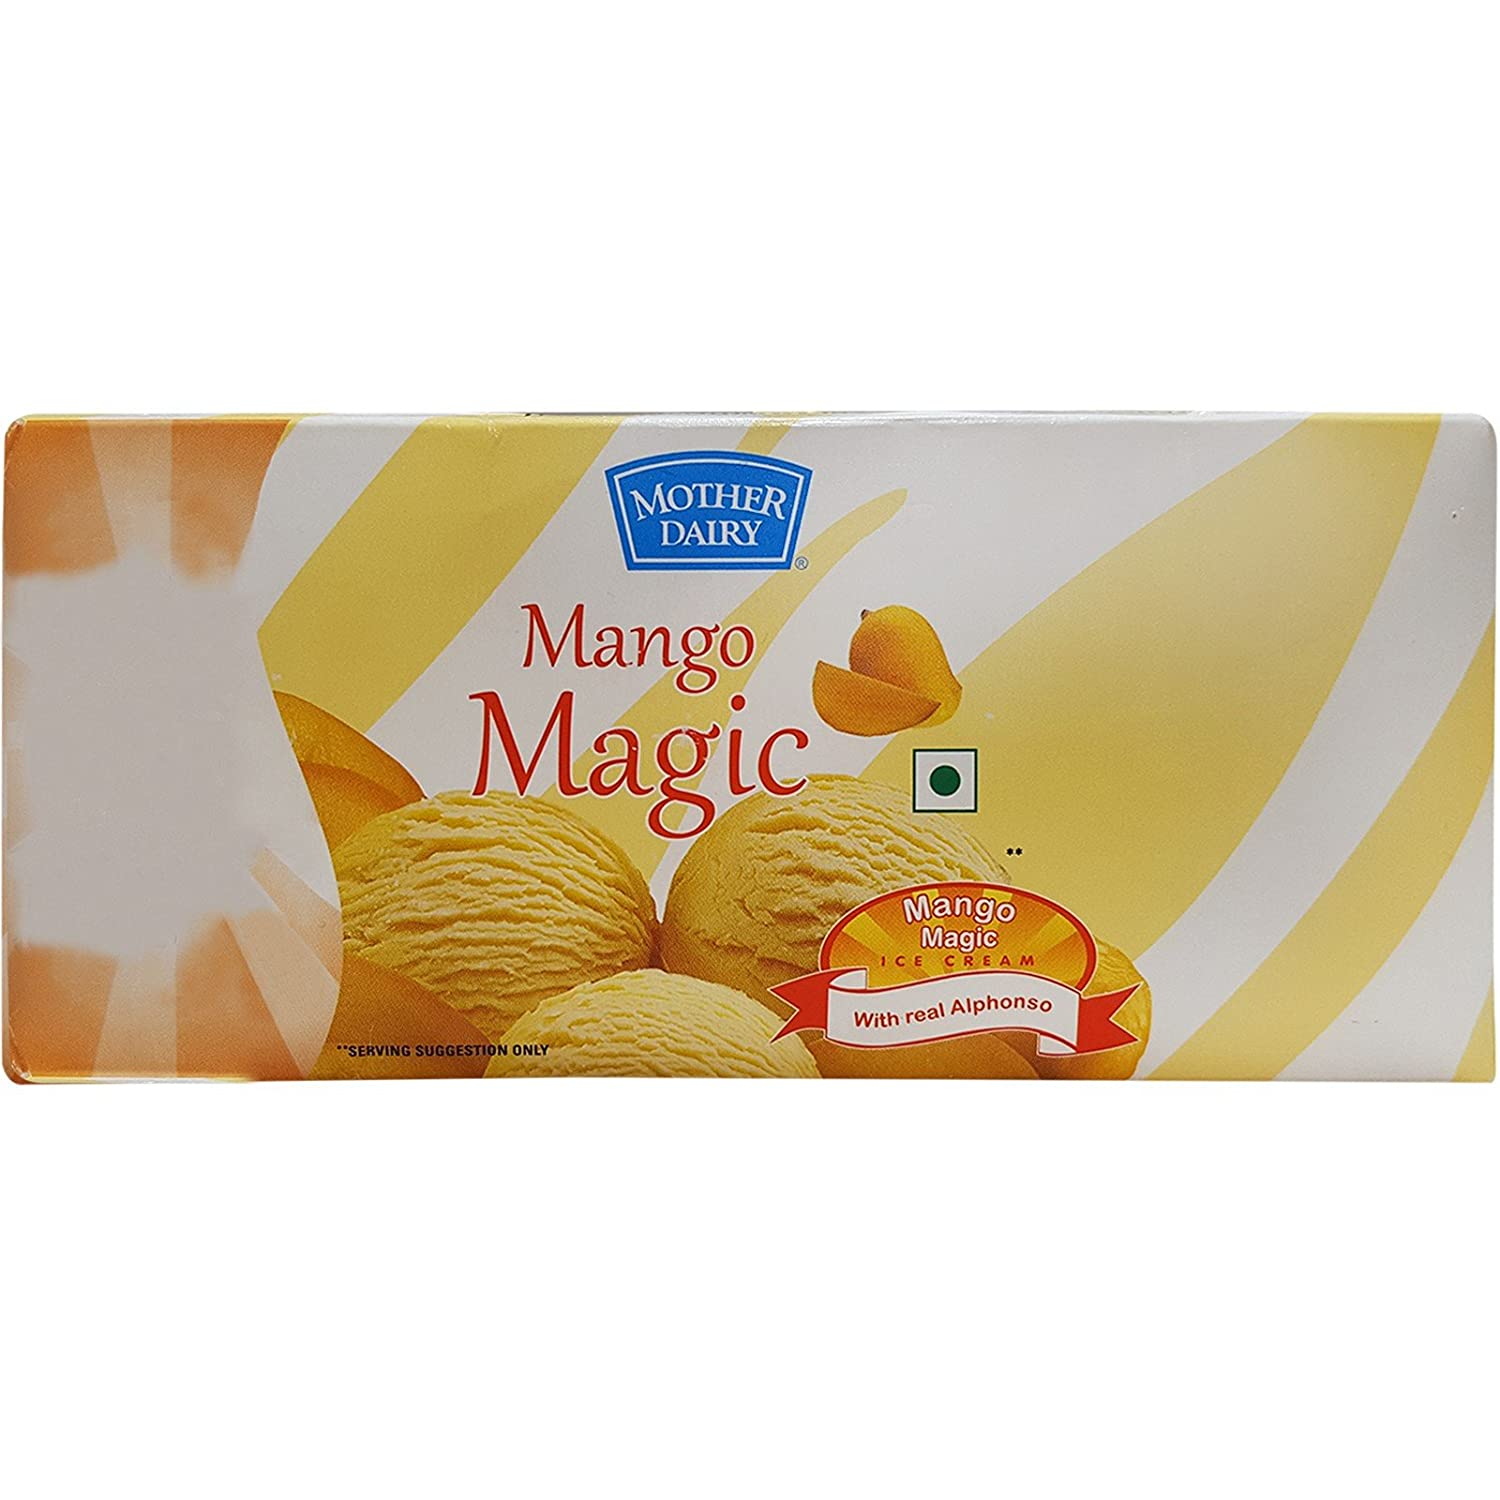Mother_Dairy: (589, 446, 817, 582)
